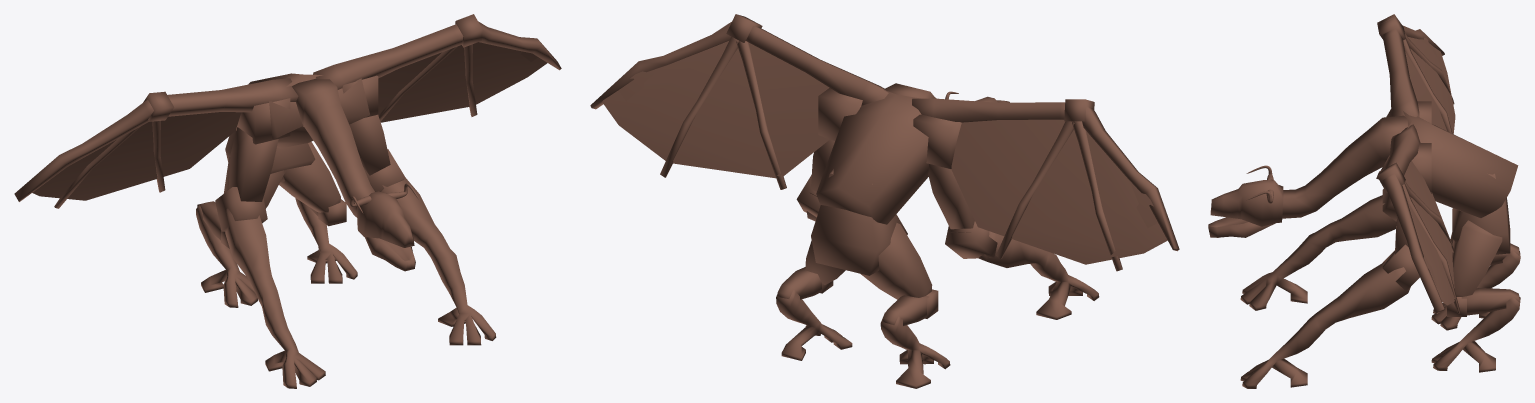
File: demon.fbx
3 views of the same model, side by side, from view 1: azimuth 30°, elevation 25°; view 2: azimuth 150°, elevation 25°; view 3: azimuth 270°, elevation 25° (orthographic). The views are drawn at different scales.
Visible parts, largest first — view 1: Cube.040; view 2: Cube.040; view 3: Cube.040.
Part boxes in pixels (x1,y1,x2,y2): Cube.040: [14, 14, 561, 388]; Cube.040: [590, 14, 1179, 388]; Cube.040: [1208, 14, 1520, 388].
Size of the model in its own units: 2362 by 1065 by 1215.
